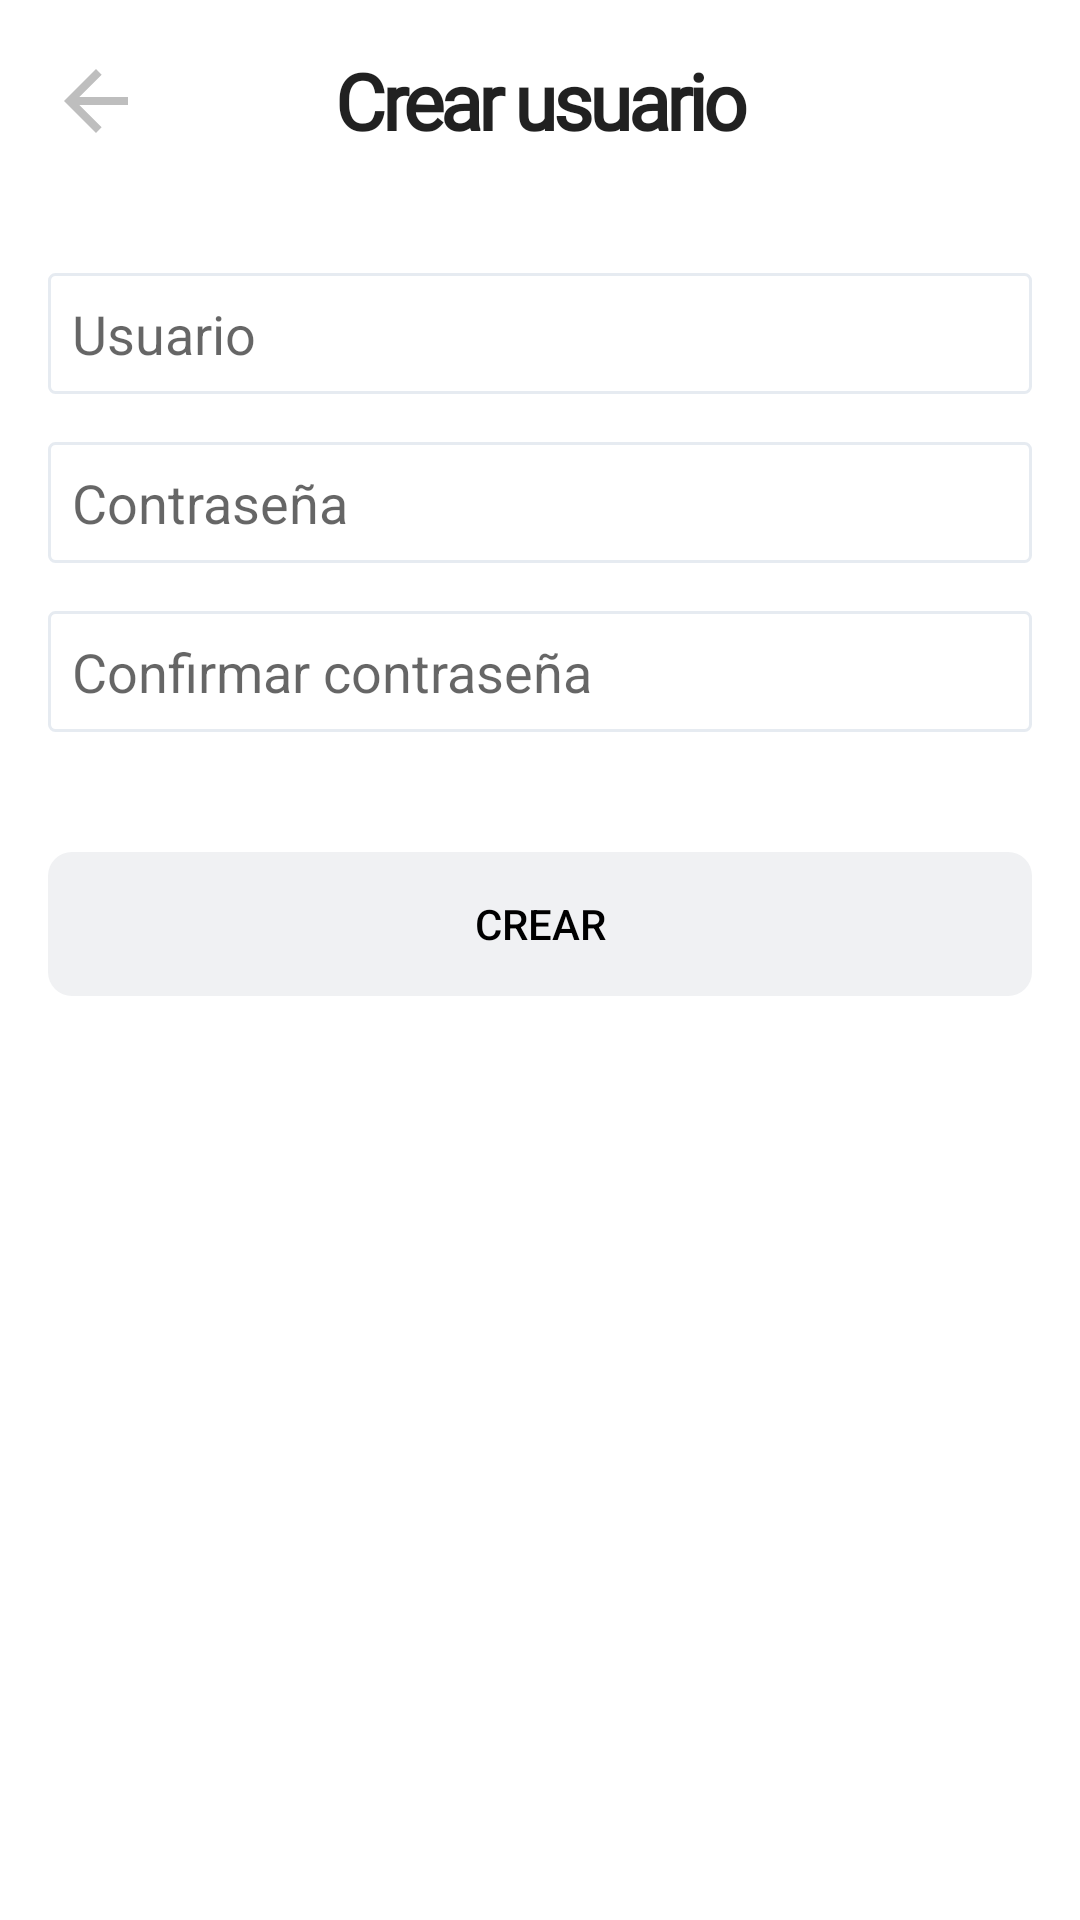

Where to tap for icons on this 1080*1920 app screen, as [x,y]:
back: [96,101]
